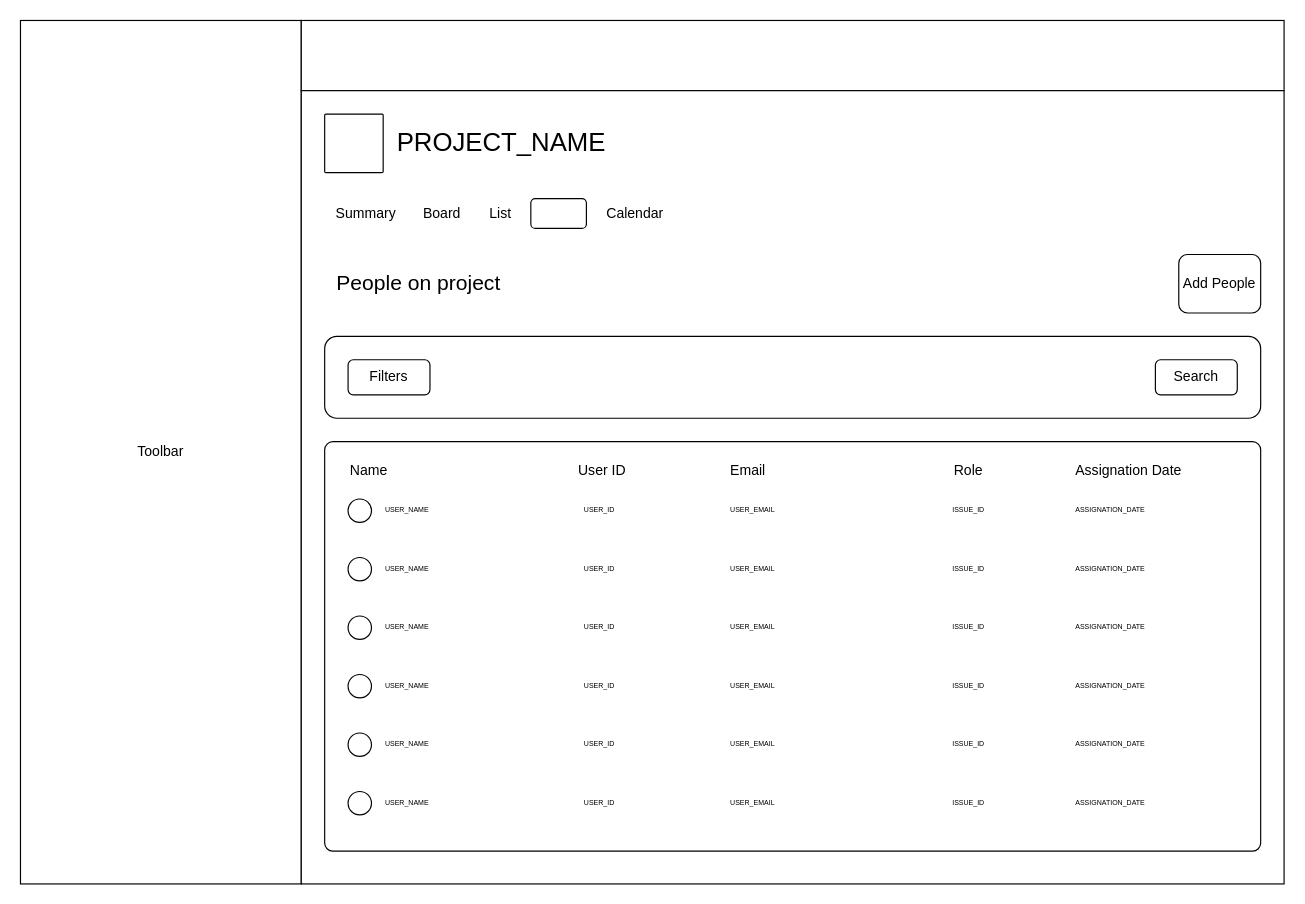
This 1305x904 diagram has some shape labels left out. The centre of each missing label's shape, as x and y in pixels:
Navigation: the point at 792,55
People: the point at 558,212
